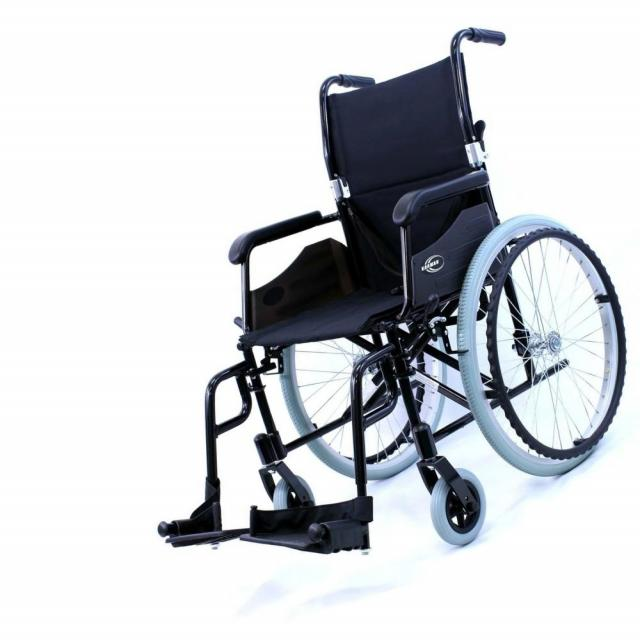wheelchair: (139, 22, 640, 570)
